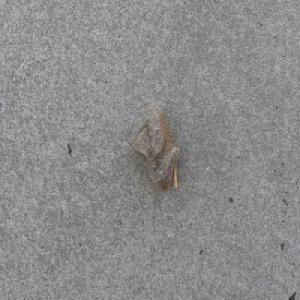Rock: (128, 103, 180, 193)
